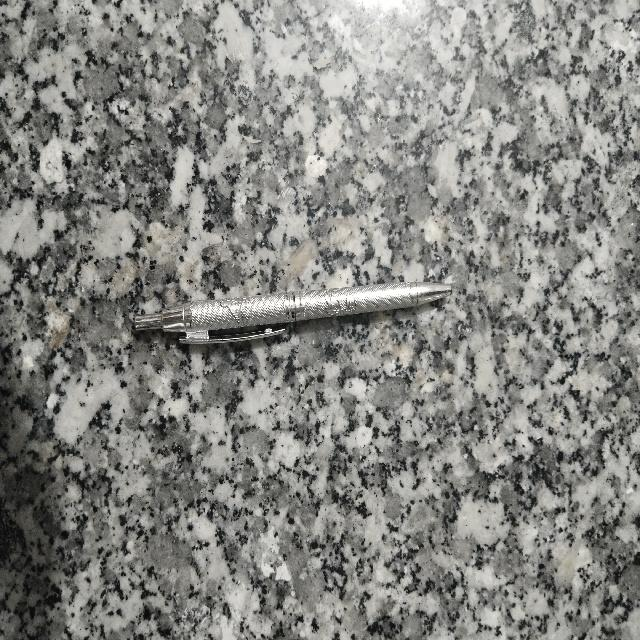signature pen: (134, 283, 450, 343)
